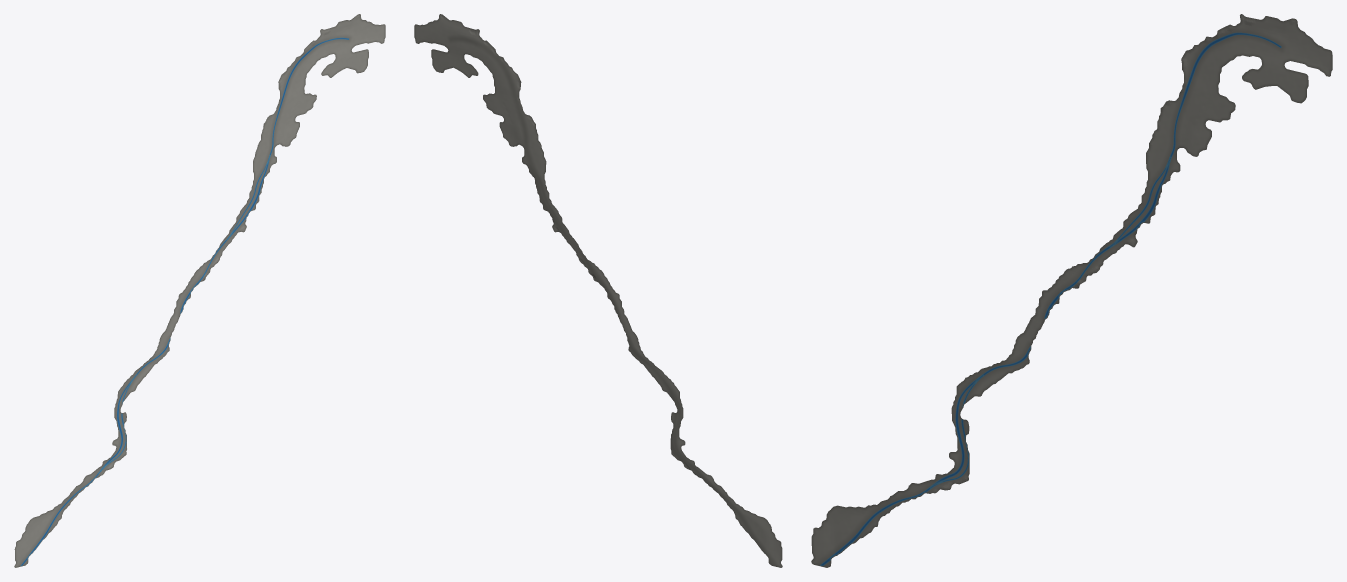
File: river-ribbon.glb
3 views of the same model, side by side, from view 1: azimuth 30°, elevation 25°; view 2: azimuth 150°, elevation 25°; view 3: azimuth 330°, elevation 25° (orthographic). The views are drawn at different scales.
Visible parts, largest first — view 1: river-bed, river-threads; view 2: river-bed; view 3: river-bed, river-threads.
Part boxes in pixels (x1,y1,x2,y2): river-bed: (14, 14, 385, 567); river-threads: (20, 37, 349, 566); river-bed: (414, 14, 782, 567); river-bed: (811, 14, 1332, 567); river-threads: (820, 32, 1281, 565).
Bounding box in the file's own units: 3037 × 3692 × 18.06.
